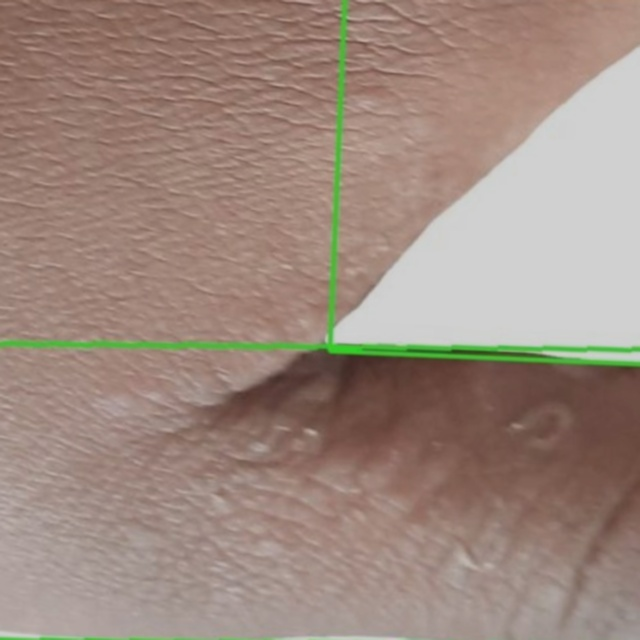Scabies: (0, 343, 639, 639), (328, 0, 639, 364)
